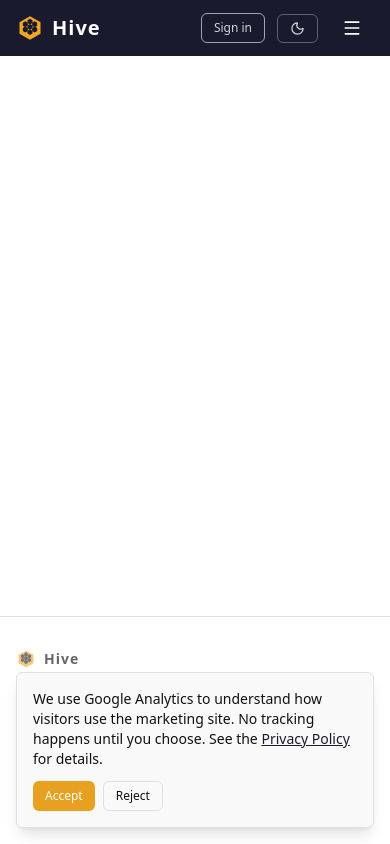
Test: PageLayout › hamburger toggles the mobile drawer and flips its aria label
Click the button named "Open menu": (352, 28) [330,12,374,44]
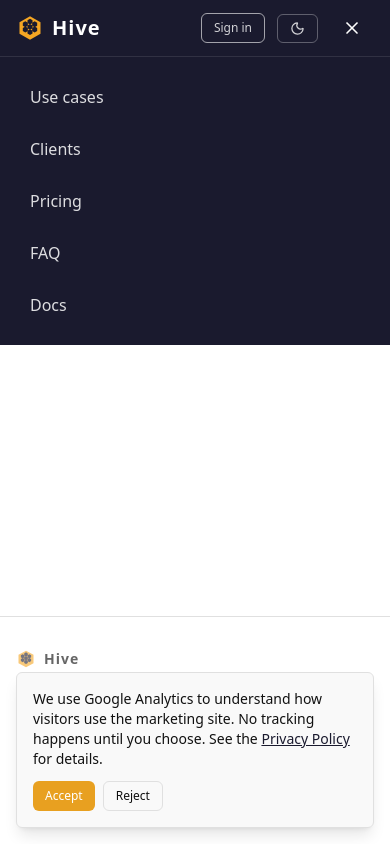
Expected: the button named "Close menu" is expanded
Expected: the navigation bar is shown, [30,86,104,316]
Click the button named "Close menu": (352, 28) [330,12,374,44]
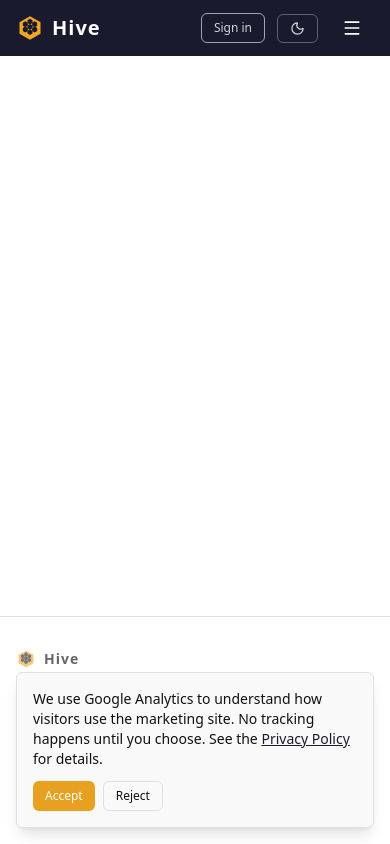
Expected: the button named "Open menu" is collapsed, [330,12,374,44]
